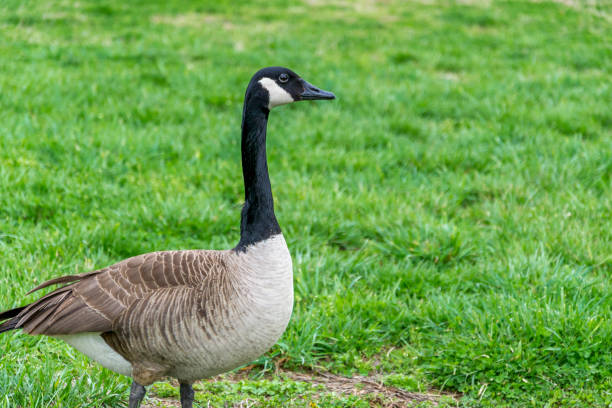goose: (1, 63, 340, 408)
